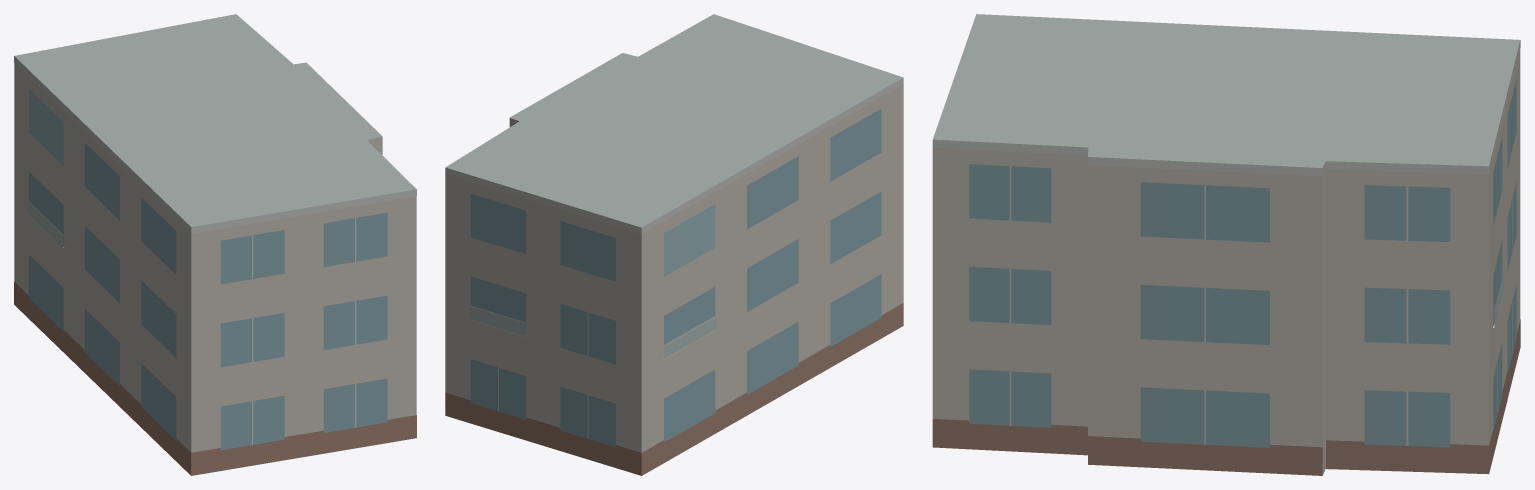
File: survey-upis-32769471.glb
3 renders of one model, left to right at view 1: azimuth 30°, elevation 25°; view 2: azimuth 150°, elevation 25°; view 3: azimuth 270°, elevation 25°, orthographic. The views are drawn at different scales.
Visible parts, largest first — view 1: survey-upis-32769471.tmp; view 2: survey-upis-32769471.tmp; view 3: survey-upis-32769471.tmp.
Part boxes in pixels (x1,y1,x2,y2): survey-upis-32769471.tmp: (14,14,416,475); survey-upis-32769471.tmp: (445,14,903,475); survey-upis-32769471.tmp: (932,14,1520,475).
Bounding box in the file's own units: 9.83 × 9.15 × 15.84.
